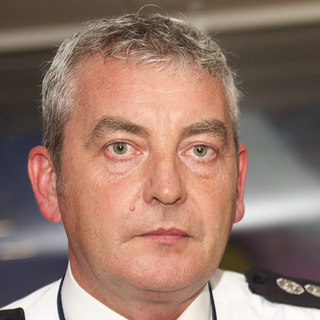eye: (177, 138, 224, 163), (98, 139, 144, 159)
